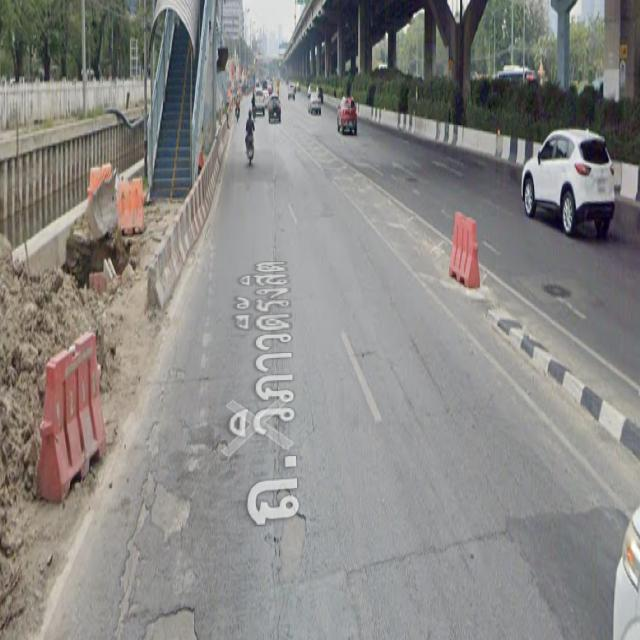fallen_object: (25, 310, 123, 494), (66, 145, 149, 257), (422, 183, 491, 303)
